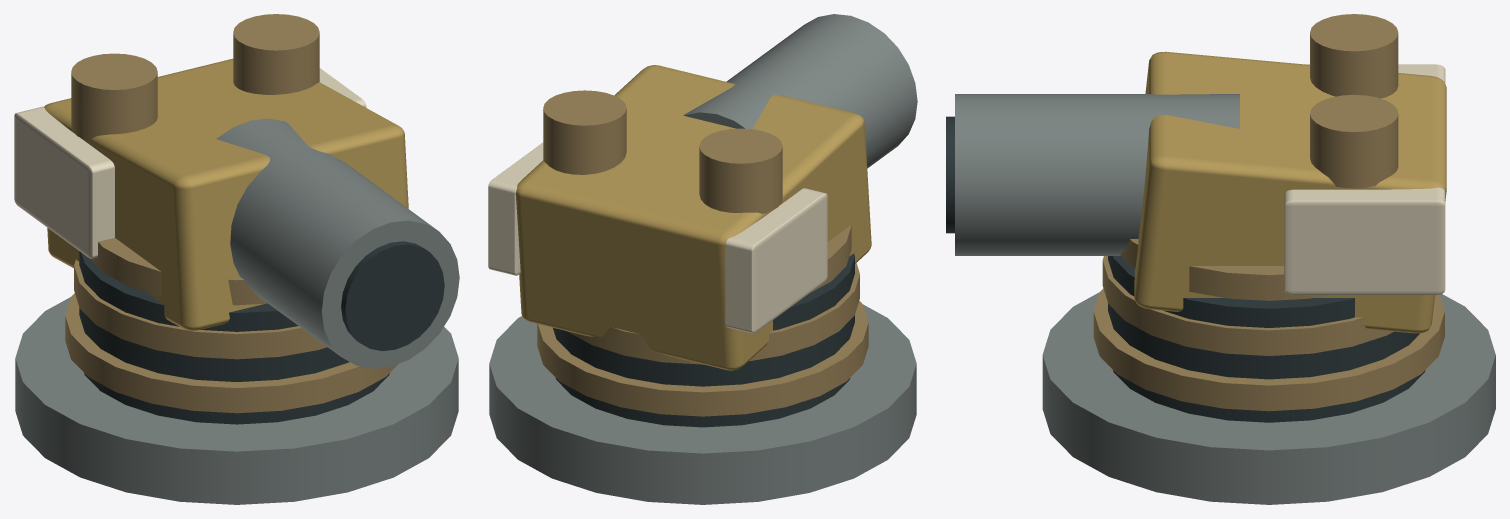
The model's file is warden-machine-seismic-mortar-v1.glb.
3 views of the same model, side by side, from view 1: azimuth 30°, elevation 25°; view 2: azimuth 150°, elevation 25°; view 3: azimuth 270°, elevation 25° (orthographic). The views are drawn at different scales.
Parts seen in each view (by area): view 1: Steel / Cylinder (×2), Hull paint / Plate, Brass / Cylinder (×5), Dark metal / Cylinder (×2), Trim / Plate (×2); view 2: Steel / Cylinder (×2), Hull paint / Plate, Brass / Cylinder (×5), Trim / Plate (×2), Dark metal / Cylinder; view 3: Steel / Cylinder (×2), Hull paint / Plate, Brass / Cylinder (×5), Trim / Plate, Dark metal / Cylinder (×2).
Part boxes in pixels (left/top/right/bottom): Steel / Cylinder (×2): left=15, top=118, right=459, bottom=504; Hull paint / Plate: left=44, top=58, right=408, bottom=330; Brass / Cylinder (×5): left=65, top=14, right=397, bottom=413; Dark metal / Cylinder (×2): left=79, top=241, right=444, bottom=424; Trim / Plate (×2): left=14, top=68, right=366, bottom=258; Steel / Cylinder (×2): left=489, top=14, right=917, bottom=504; Hull paint / Plate: left=515, top=65, right=871, bottom=370; Brass / Cylinder (×5): left=537, top=90, right=868, bottom=416; Trim / Plate (×2): left=488, top=142, right=827, bottom=333; Dark metal / Cylinder: left=553, top=253, right=854, bottom=427; Steel / Cylinder (×2): left=955, top=94, right=1495, bottom=504; Hull paint / Plate: left=1134, top=51, right=1446, bottom=333; Brass / Cylinder (×5): left=1093, top=14, right=1444, bottom=411; Trim / Plate: left=1284, top=187, right=1445, bottom=294; Dark metal / Cylinder (×2): left=946, top=116, right=1425, bottom=422.
Size of the model in its own units: 0.2246 by 0.1838 by 0.2725.
